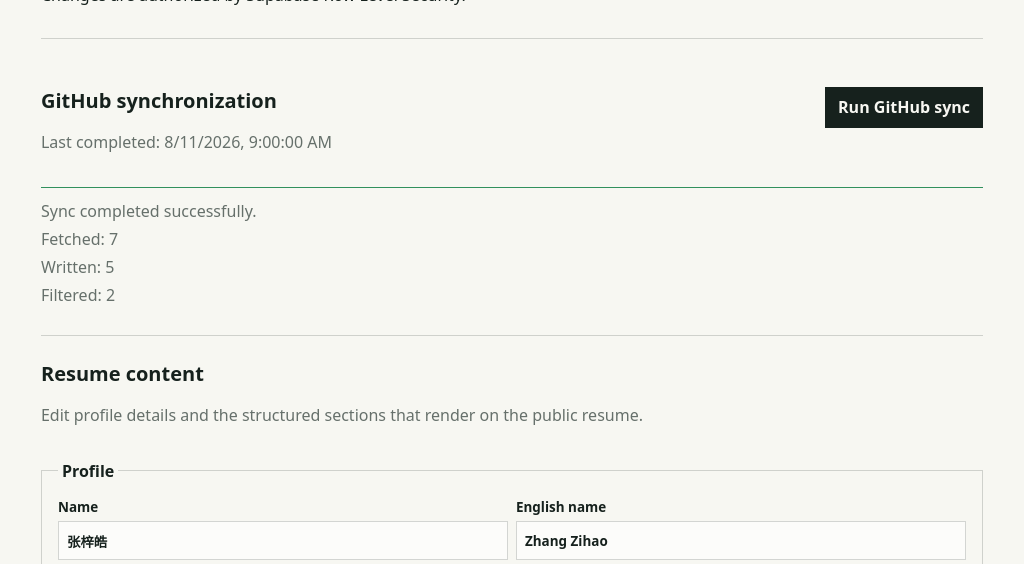
Scenario: AdminPage › lets an owner edit and save structured profile content
Replace the text in the field labelled "Name" with "Updated name" at (283, 540), box 58,521 -> 508,560
(page scrolled)
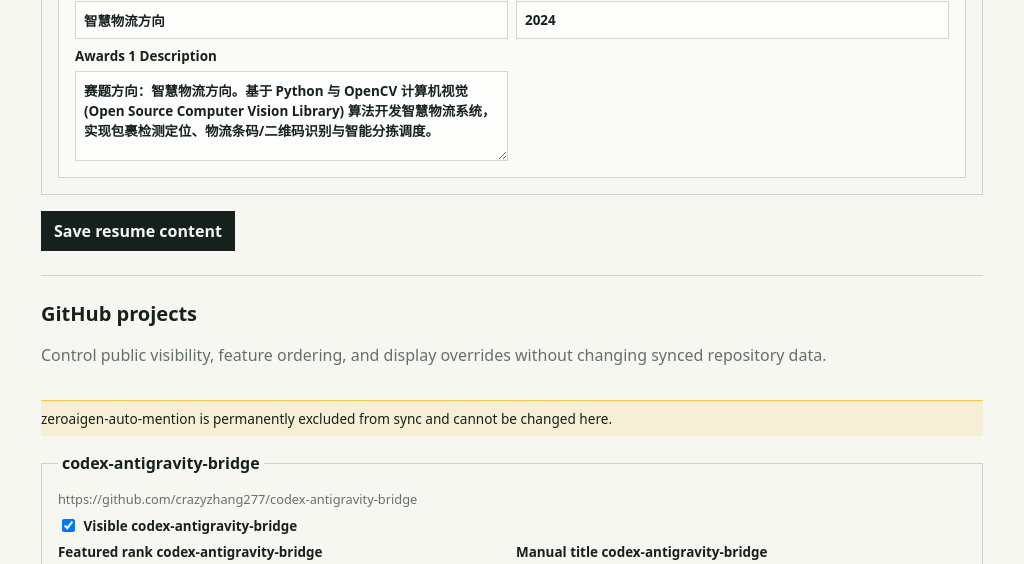
Click the button "Save resume content" at (138, 231), box 41,211 -> 235,251
(page scrolled)
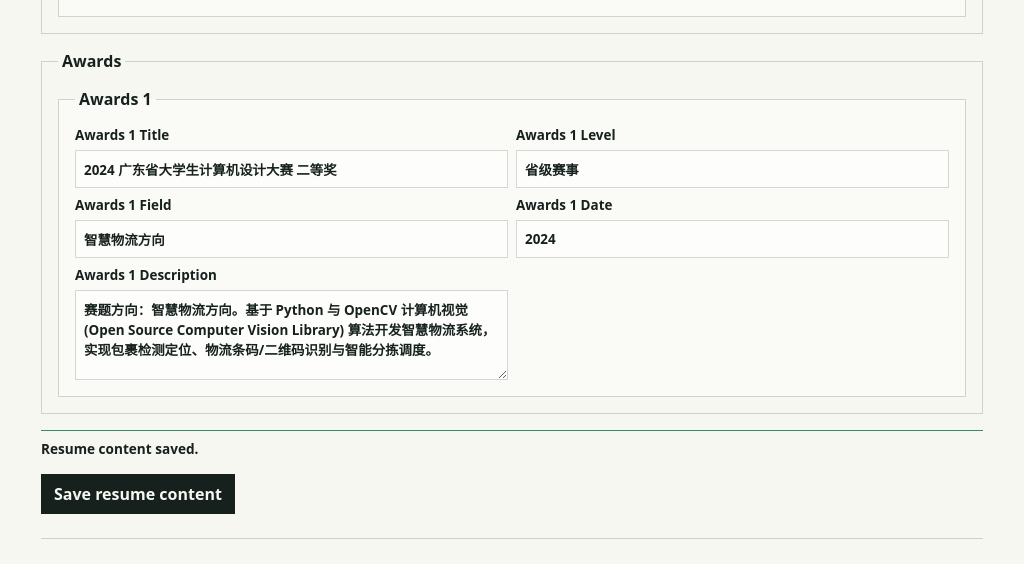
Expected: the element labelled "Awards" is shown, 41,50 -> 983,414
Result: the text "Resume content saved." is shown at 41,430 -> 983,458
